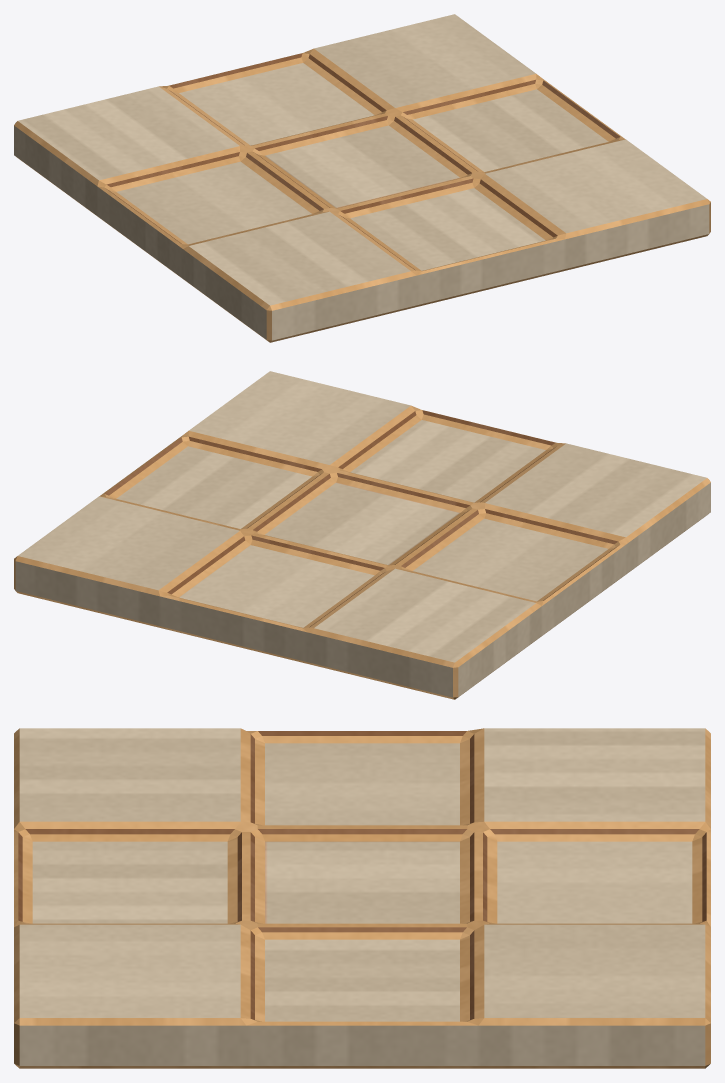
The model's file is sm_terrain_tile_path_cross.glb.
The picture shows the model from 3 angles, top to bottom: view 1: azimuth 30°, elevation 25°; view 2: azimuth 150°, elevation 25°; view 3: azimuth 270°, elevation 25°; orthographic projection. The views are drawn at different scales.
Visible parts, largest first — view 1: sm_terrain_tile_path_cross; view 2: sm_terrain_tile_path_cross; view 3: sm_terrain_tile_path_cross.
Part boxes in pixels (x1,y1,x2,y2): sm_terrain_tile_path_cross: (14,14,710,342); sm_terrain_tile_path_cross: (14,371,710,699); sm_terrain_tile_path_cross: (14,728,710,1068).
Size of the model in its own units: 1 by 0.08 by 1.
Materials: 1 (1 with a texture image).
